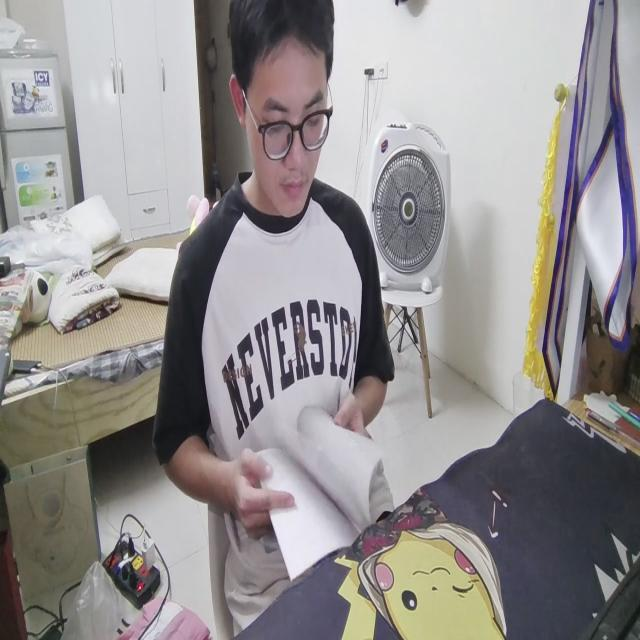book: (244, 408, 384, 565)
student: (160, 0, 394, 611)
